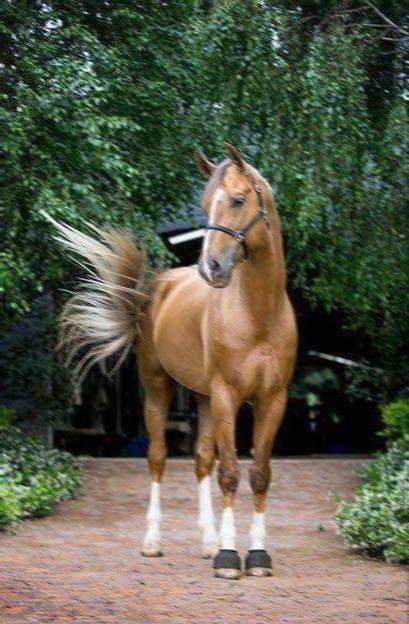horse: (37, 140, 298, 578)
